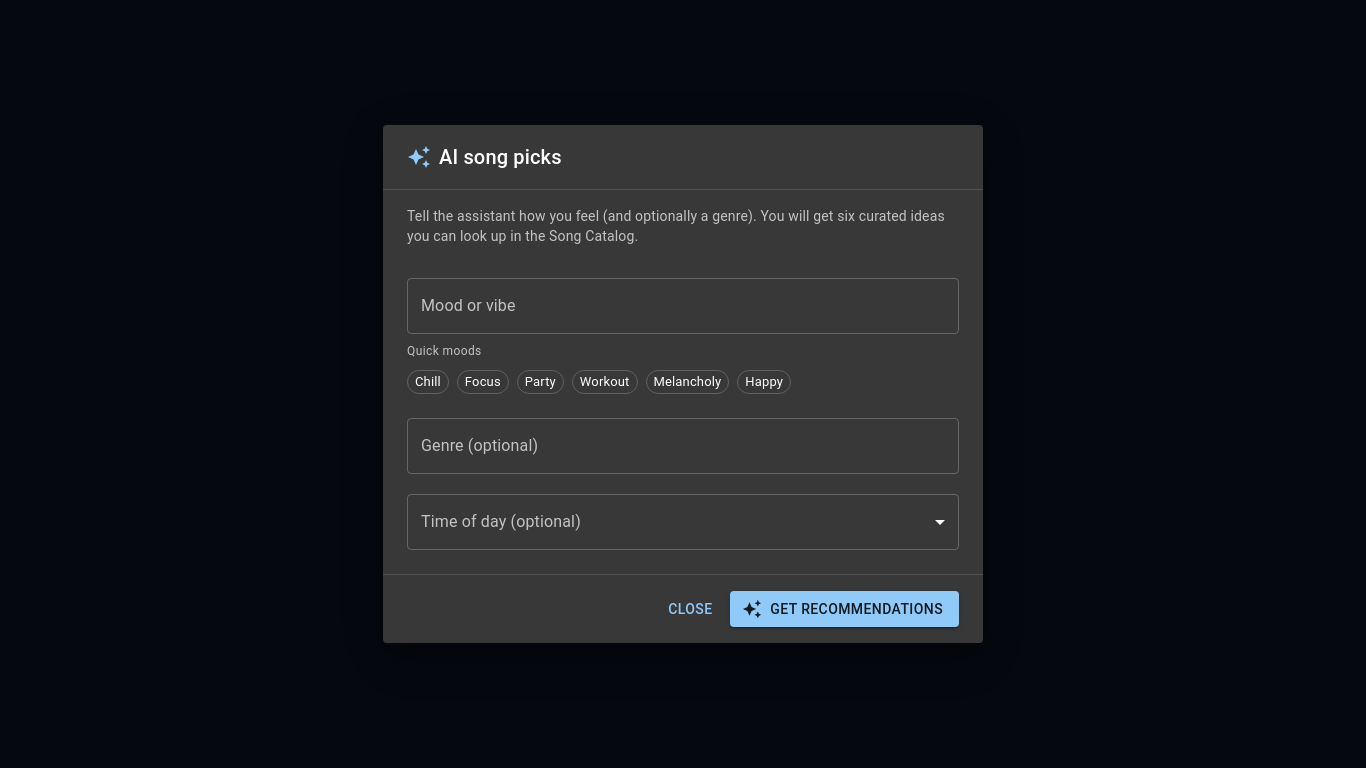
Test: AIRecommendationsDialog › renders song cards when the API returns recommendations
The image size is (1366, 768).
Type "classic rock" into the field labelled "Mood or vibe".
click(683, 306); type("classic rock")  # box [407, 278, 959, 334]
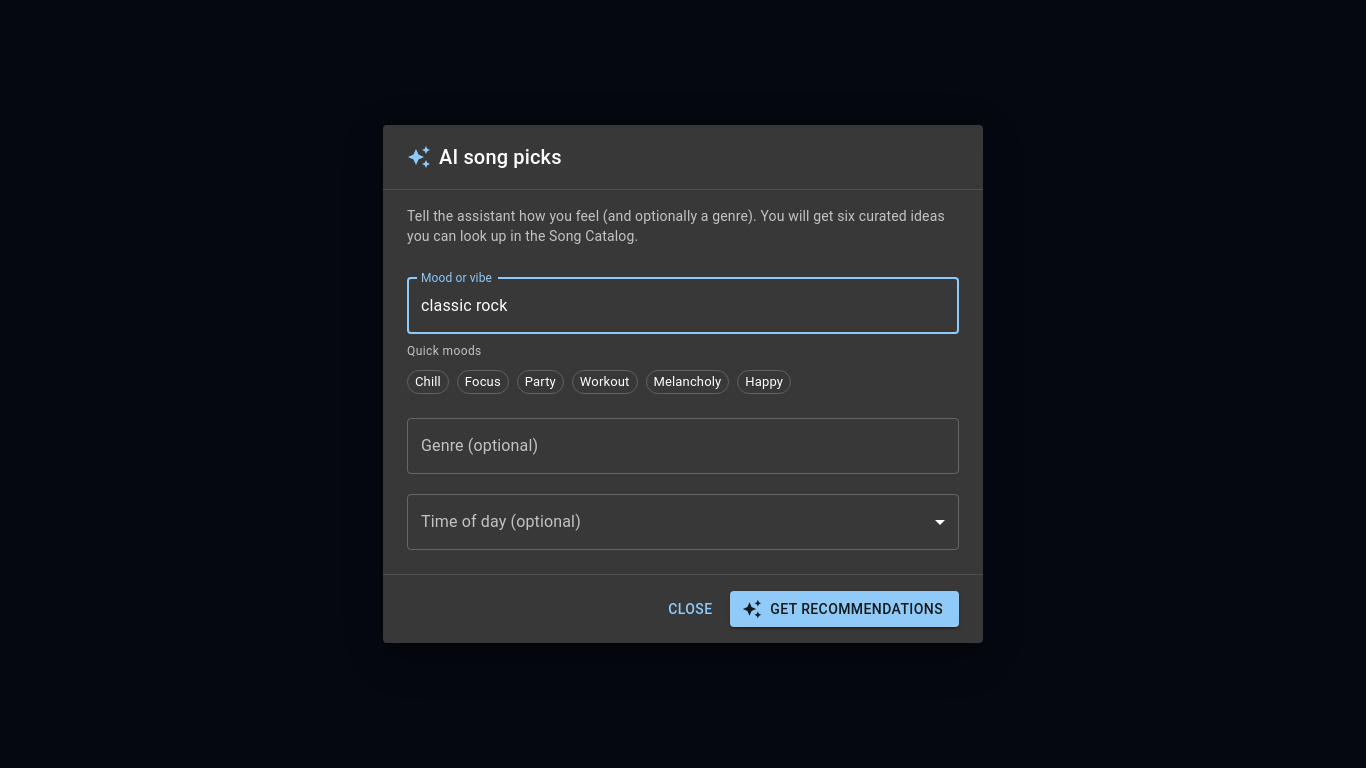
Click the button "Get recommendations".
click(845, 609)  # box [730, 591, 959, 627]
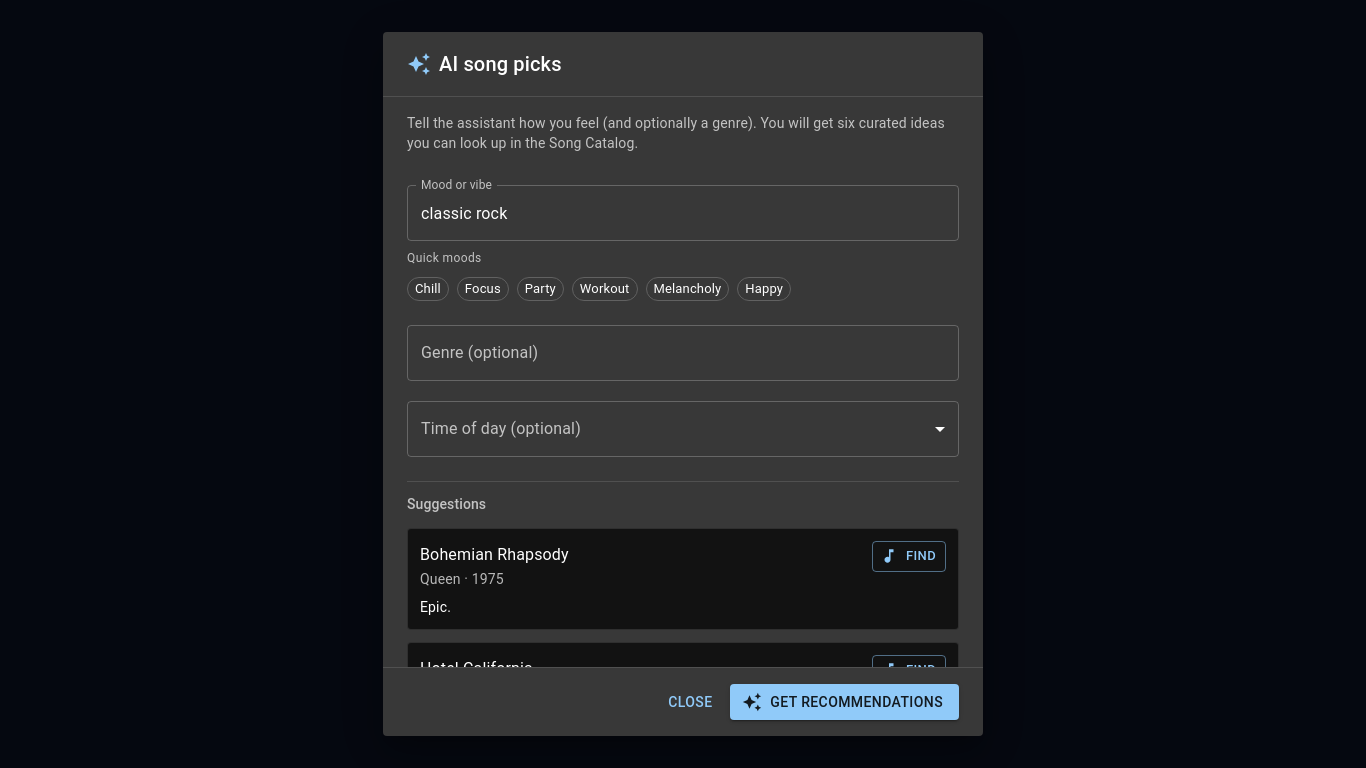
Expected: the heading "Bohemian Rhapsody" is shown, [420, 541, 569, 569]
Expected: the text "Queen · 1975" is shown, [420, 571, 504, 587]
